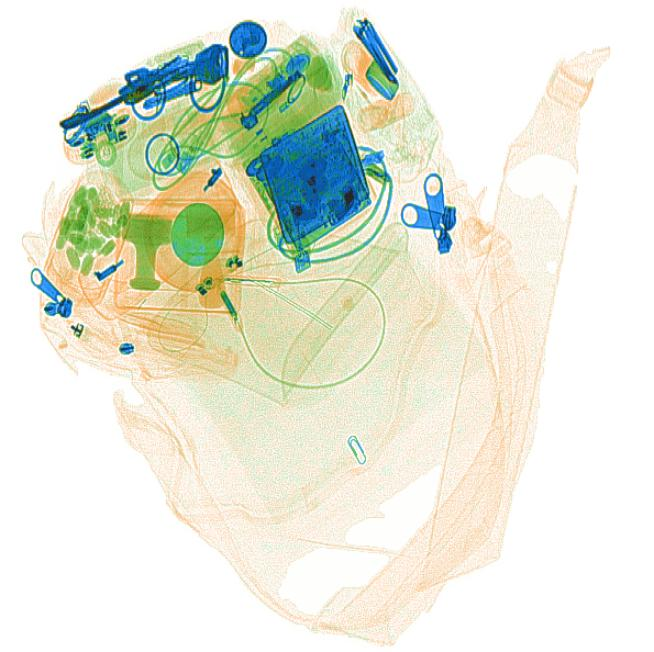seal: (184, 202, 234, 309), (124, 213, 172, 292)
